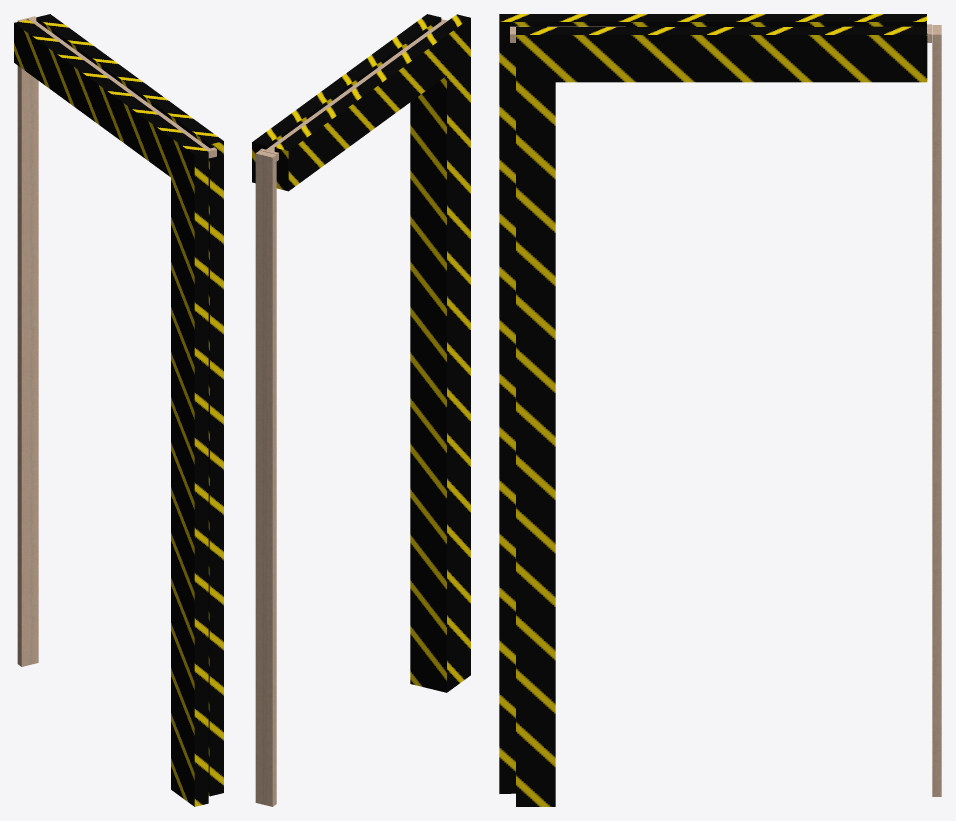
Rendered from WALLSET_R.FBX.
The picture shows the model from 3 angles, left to right: view 1: azimuth 30°, elevation 25°; view 2: azimuth 150°, elevation 25°; view 3: azimuth 270°, elevation 25°; orthographic projection. The views are drawn at different scales.
Parts seen in each view (by area): view 1: SELECTOR_07, FRAME_51; view 2: SELECTOR_07, FRAME_51; view 3: SELECTOR_07, FRAME_51.
Part boxes in pixels (x1,y1,x2,y2): SELECTOR_07: (14,14,223,806); FRAME_51: (17,16,216,666); SELECTOR_07: (252,14,470,692); FRAME_51: (255,19,447,806); SELECTOR_07: (499,14,927,806); FRAME_51: (510,24,941,796).
Bounding box in the file's own units: 5.25 × 90.28 × 46.86.
